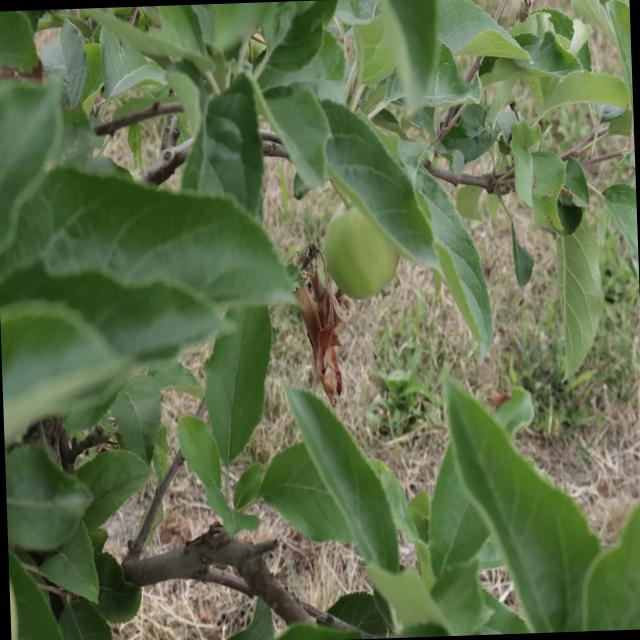-FireBlight-: (290, 264, 366, 404)
